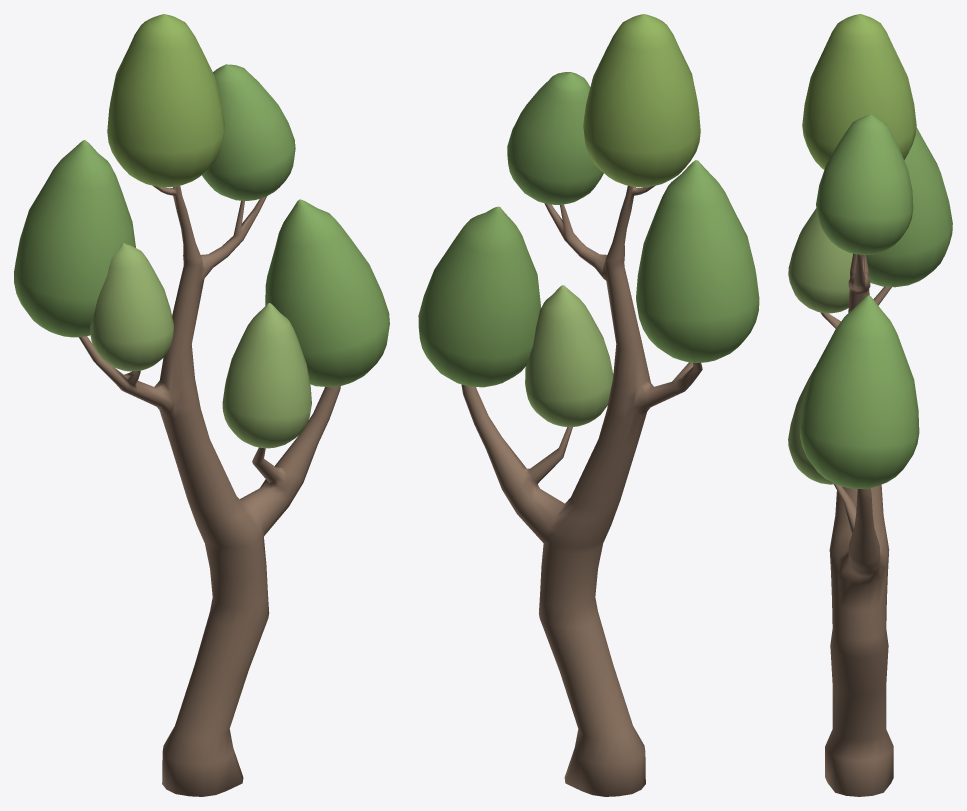
The model's file is arbol verde.fbx.
The picture shows the model from 3 angles, left to right: view 1: azimuth 30°, elevation 25°; view 2: azimuth 150°, elevation 25°; view 3: azimuth 270°, elevation 25°; orthographic projection. The views are drawn at different scales.
Parts seen in each view (by area): view 1: pCylinder9, pSphere3, pSphere10, pSphere8, pSphere9, pSphere4, pSphere6; view 2: pCylinder9, pSphere10, pSphere8, pSphere3, pSphere9, pSphere4; view 3: pCylinder9, pSphere8, pSphere3, pSphere4, pSphere10, pSphere6, pSphere9.
Boxes of the visible parts, left/top/right/bottom form: pCylinder9: left=79, top=185, right=340, bottom=796; pSphere3: left=107, top=14, right=224, bottom=187; pSphere10: left=14, top=140, right=135, bottom=337; pSphere8: left=265, top=199, right=389, bottom=387; pSphere9: left=222, top=303, right=311, bottom=448; pSphere4: left=202, top=64, right=295, bottom=200; pSphere6: left=90, top=243, right=173, bottom=371; pCylinder9: left=461, top=185, right=702, bottom=796; pSphere10: left=636, top=160, right=759, bottom=362; pSphere8: left=418, top=206, right=540, bottom=387; pSphere3: left=583, top=14, right=700, bottom=187; pSphere9: left=525, top=285, right=613, bottom=427; pSphere4: left=507, top=72, right=603, bottom=204; pCylinder9: left=820, top=253, right=893, bottom=796; pSphere8: left=799, top=295, right=919, bottom=488; pSphere3: left=802, top=14, right=916, bottom=169; pSphere4: left=816, top=114, right=913, bottom=254; pSphere10: left=866, top=127, right=952, bottom=287; pSphere6: left=788, top=208, right=852, bottom=313; pSphere9: left=788, top=370, right=835, bottom=484.
Bounding box in the file's own units: 5.58 × 12.06 × 2.41.
